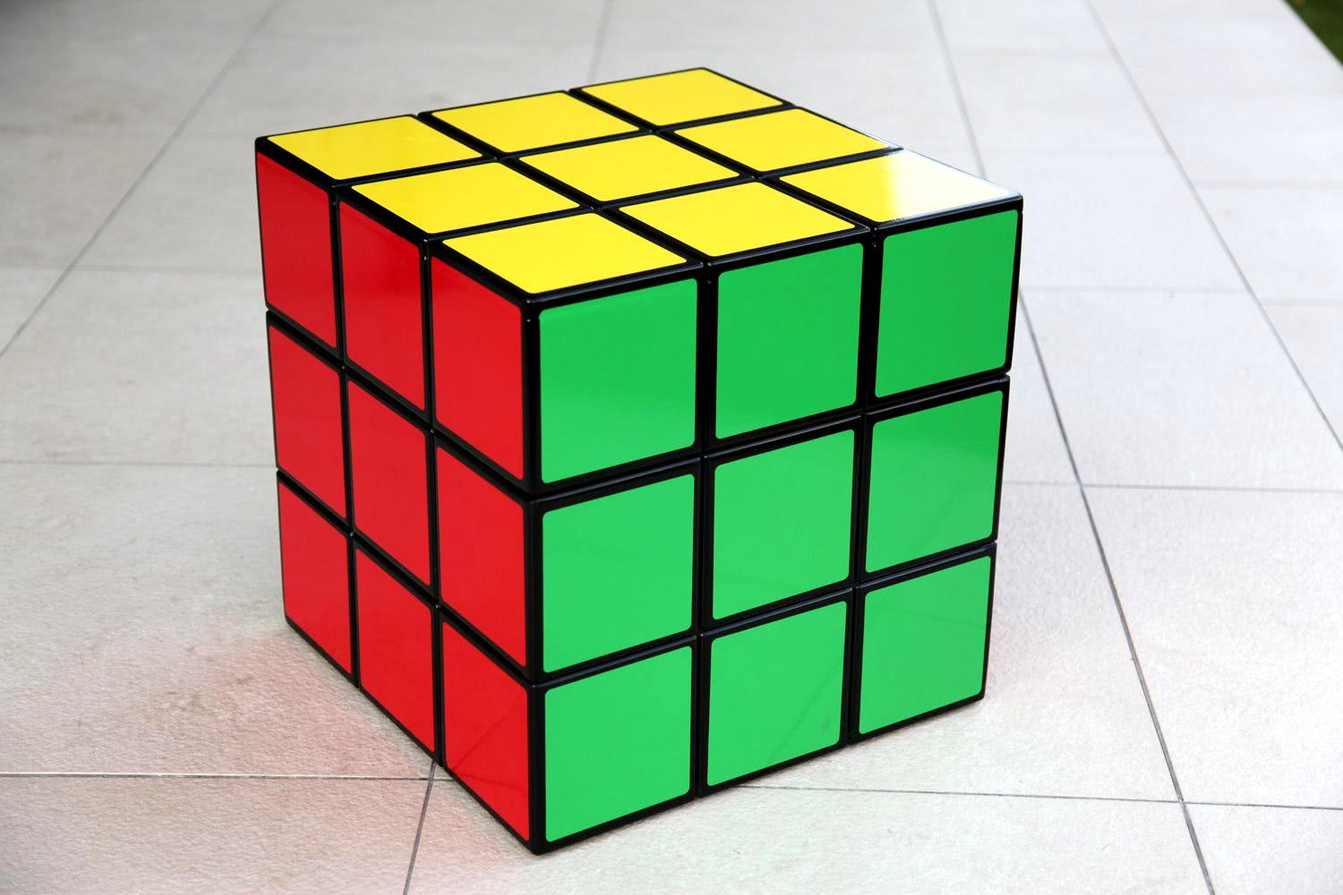rubiks_cube: (257, 68, 1018, 842)
